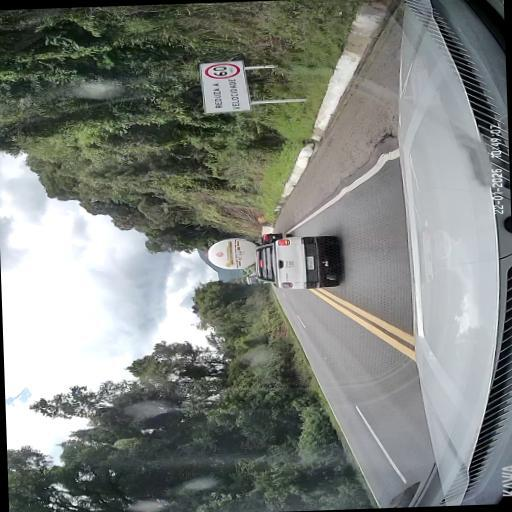R-19: (204, 61, 240, 78)
